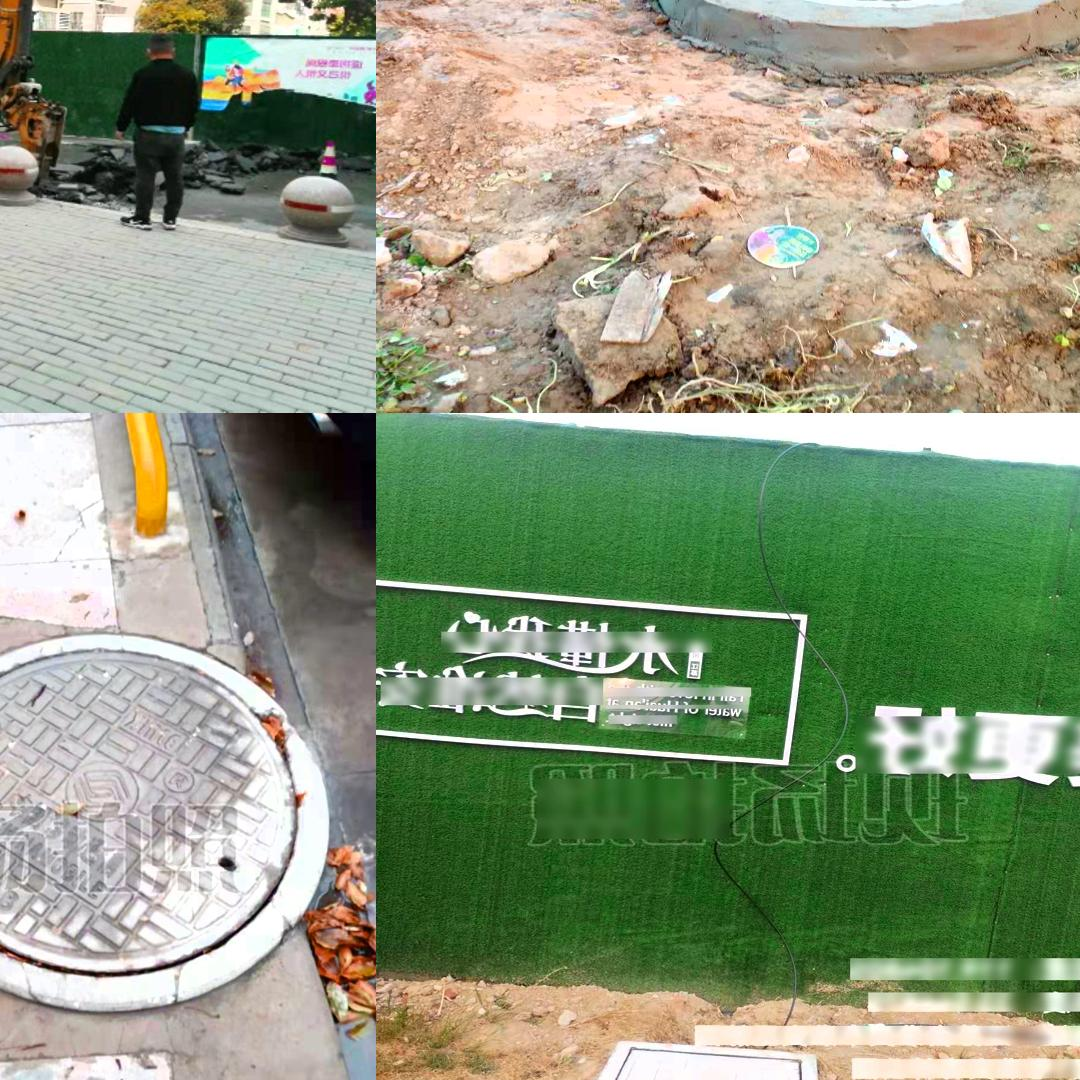good: (0, 631, 329, 1012), (534, 1038, 832, 1080), (730, 0, 1030, 5)
